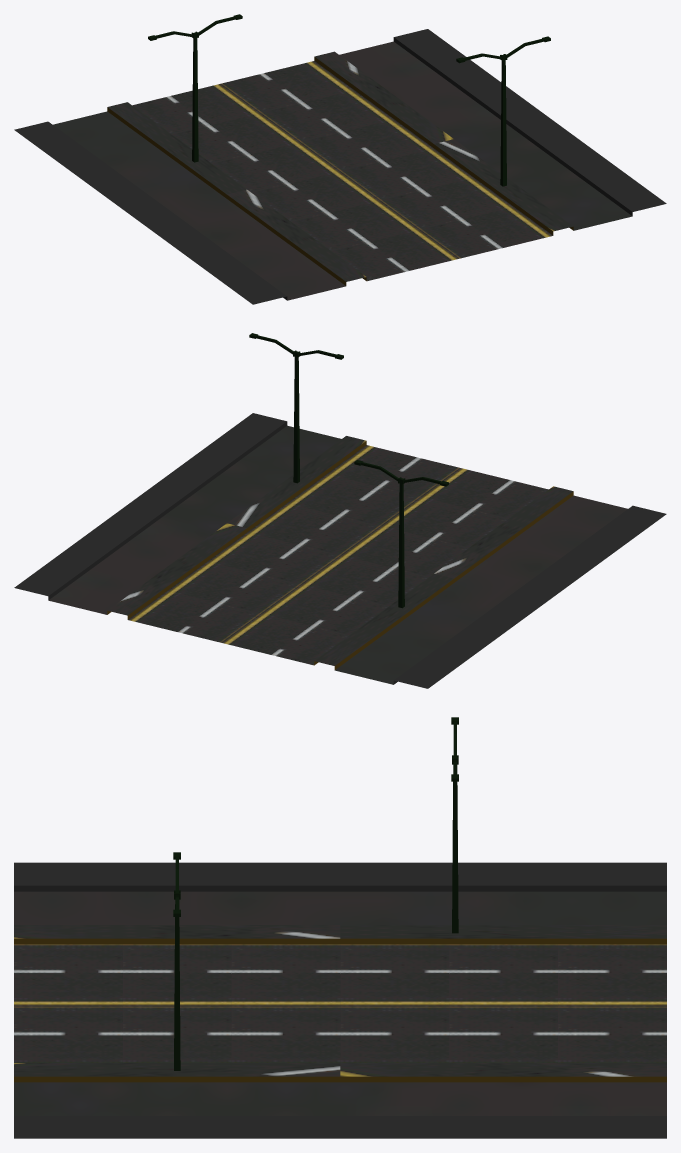
File: blvd_main.obj
3 views of the same model, one above another, from view 1: azimuth 30°, elevation 25°; view 2: azimuth 150°, elevation 25°; view 3: azimuth 270°, elevation 25° (orthographic). The views are drawn at different scales.
Parts seen in each view (by area): view 1: blvd_main_Plane.002; view 2: blvd_main_Plane.002; view 3: blvd_main_Plane.002.
Part boxes in pixels (<box>): blvd_main_Plane.002: <box>14,14,666,304</box>; blvd_main_Plane.002: <box>14,333,666,688</box>; blvd_main_Plane.002: <box>14,717,666,1138</box>.
Size of the model in its own units: 1.6 by 0.5207 by 1.6.
